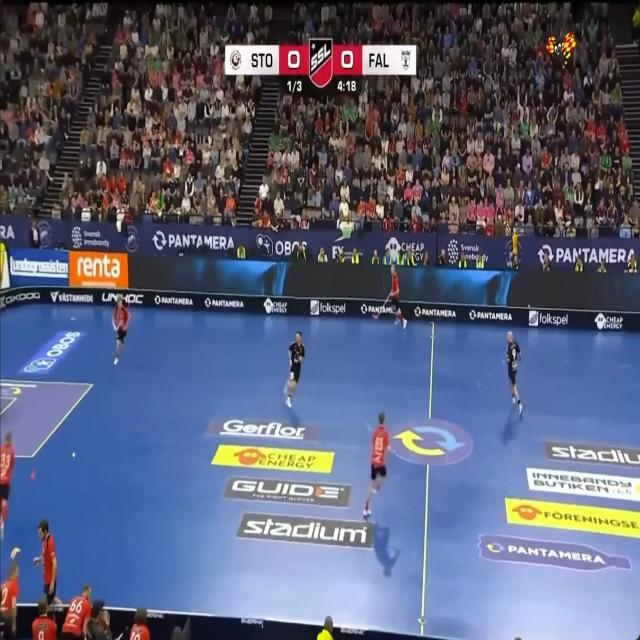Balls: (72, 453, 75, 457)
player: (363, 412, 390, 517), (34, 519, 61, 604), (284, 331, 305, 407), (62, 585, 91, 639), (0, 431, 14, 539), (0, 561, 19, 639), (506, 331, 522, 417), (112, 295, 130, 364), (31, 596, 56, 639), (390, 263, 406, 328), (129, 608, 150, 639)
stick: (381, 293, 390, 306), (373, 312, 379, 319)
